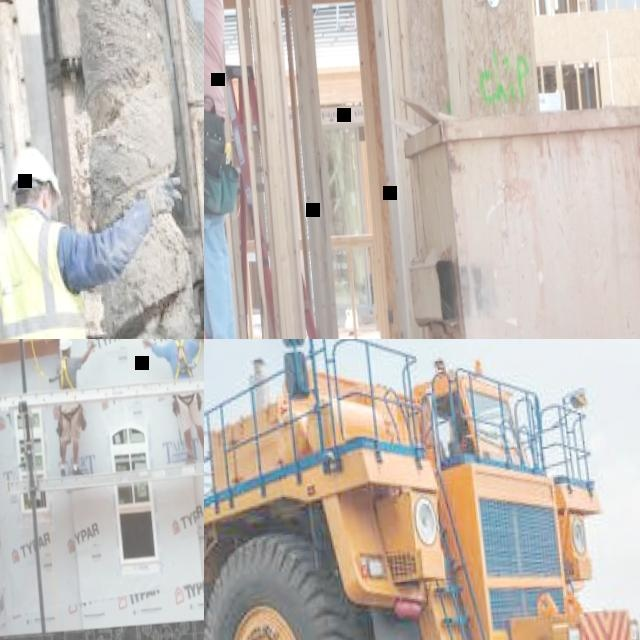Hardhat: (10, 143, 64, 205), (57, 339, 72, 350)
NO-Mask: (67, 349, 71, 356)
NO-Safety Vest: (204, 0, 230, 109), (166, 339, 192, 378), (56, 355, 77, 386)
Person: (0, 127, 204, 339), (139, 339, 204, 465), (49, 339, 107, 474)
Safety Vest: (0, 203, 99, 339)
machinery: (204, 339, 640, 640), (0, 0, 204, 339)
